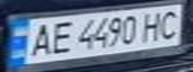0: (118, 12, 145, 45)
4: (75, 16, 96, 52), (90, 15, 112, 49)
9: (106, 15, 127, 47)
A: (24, 20, 57, 58)
C: (154, 7, 187, 40)
E: (45, 18, 75, 56)
H: (139, 9, 169, 43)
